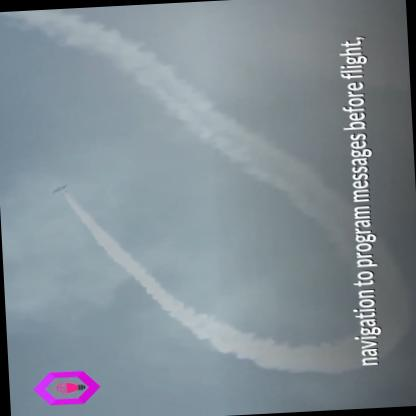plane: (44, 175, 74, 197)
